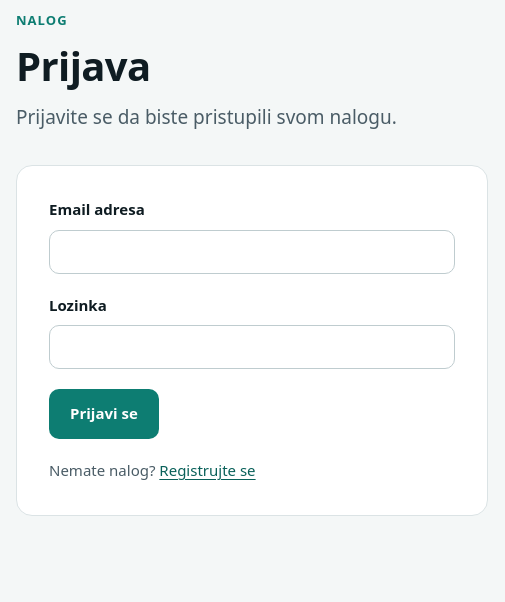
Test case: LoginPage validation › an API failure is shown as an alert and the email is kept
Type "ana@example.com" into the field labelled "Email adresa".
click(252, 252); type("ana@example.com")  # box x1=49 y1=230 x2=455 y2=274
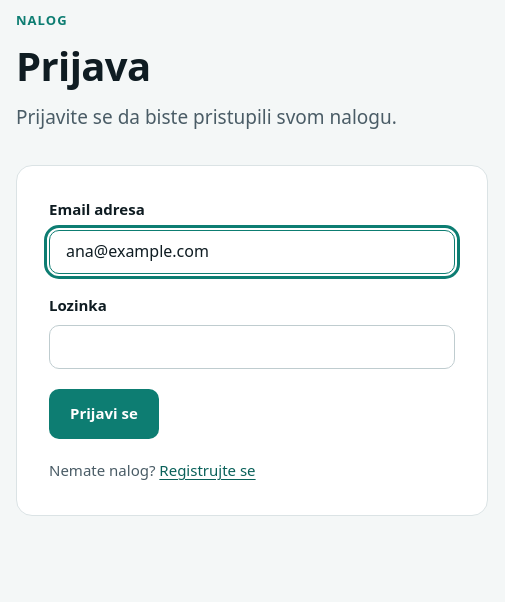
Type "WrongPass123" into the password field labelled "Lozinka".
click(252, 347); type("WrongPass123")  # box x1=49 y1=325 x2=455 y2=369
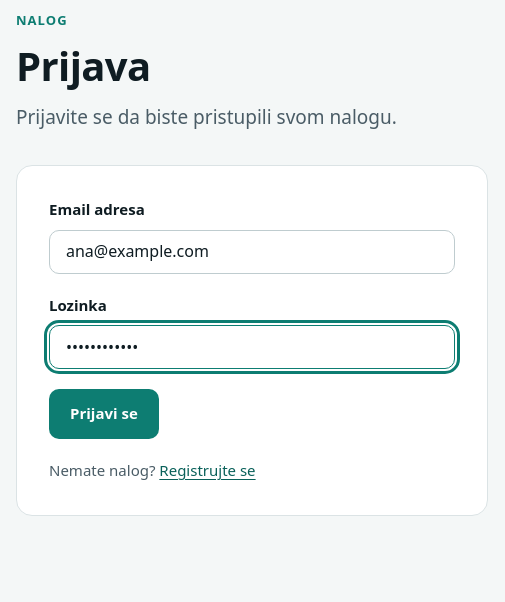
Click the button "Prijavi se".
click(104, 414)  # box x1=49 y1=389 x2=159 y2=439
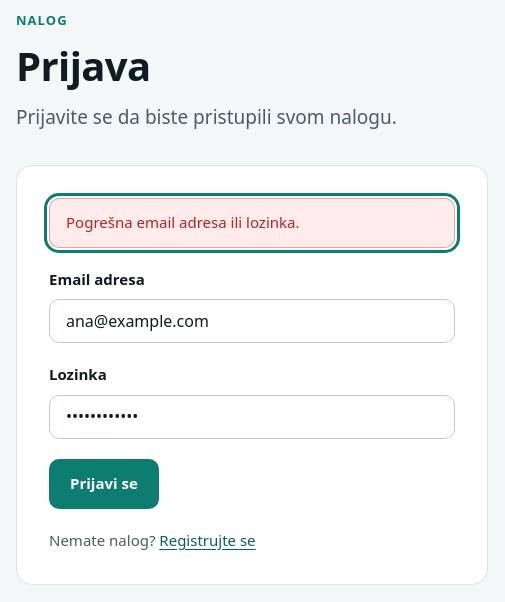
expect the message does not show "invalid email or password": met, box x1=49 y1=198 x2=455 y2=248
expect the message reads "Pogrešna email adresa ili lozinka.": met, box x1=66 y1=212 x2=300 y2=232
